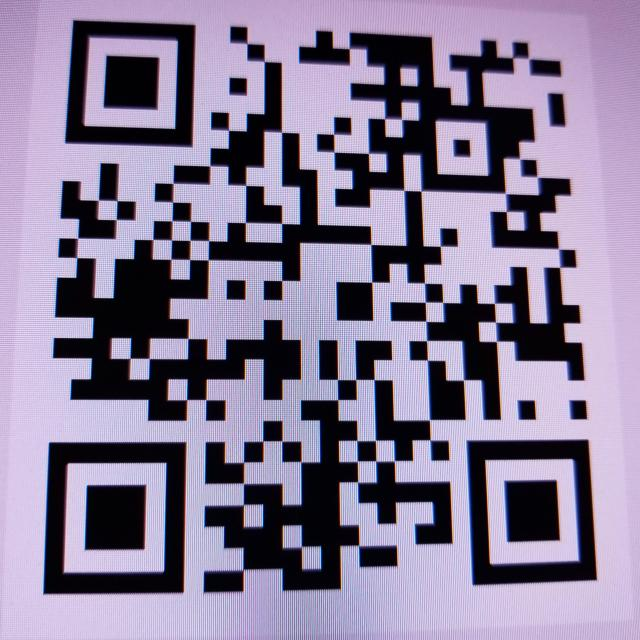QR_CODE: (26, 6, 612, 606)
